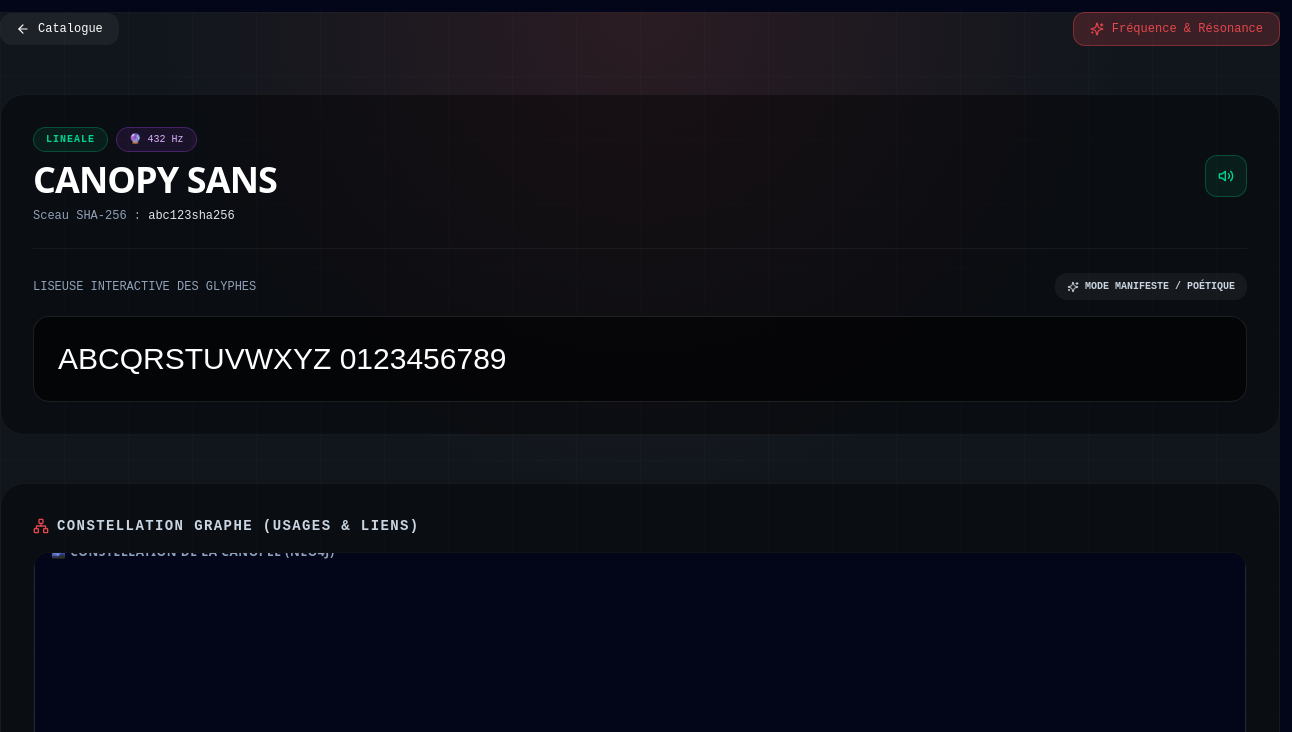
Test: Page : Letr'In Detail View ([slug]) › 🟢 Doit basculer vers le Mode Manifeste / Poétique lors du clic
The image size is (1292, 732).
Click the button "Mode Manifeste / Poétique" at (1151, 286), box [1055,273,1247,300]
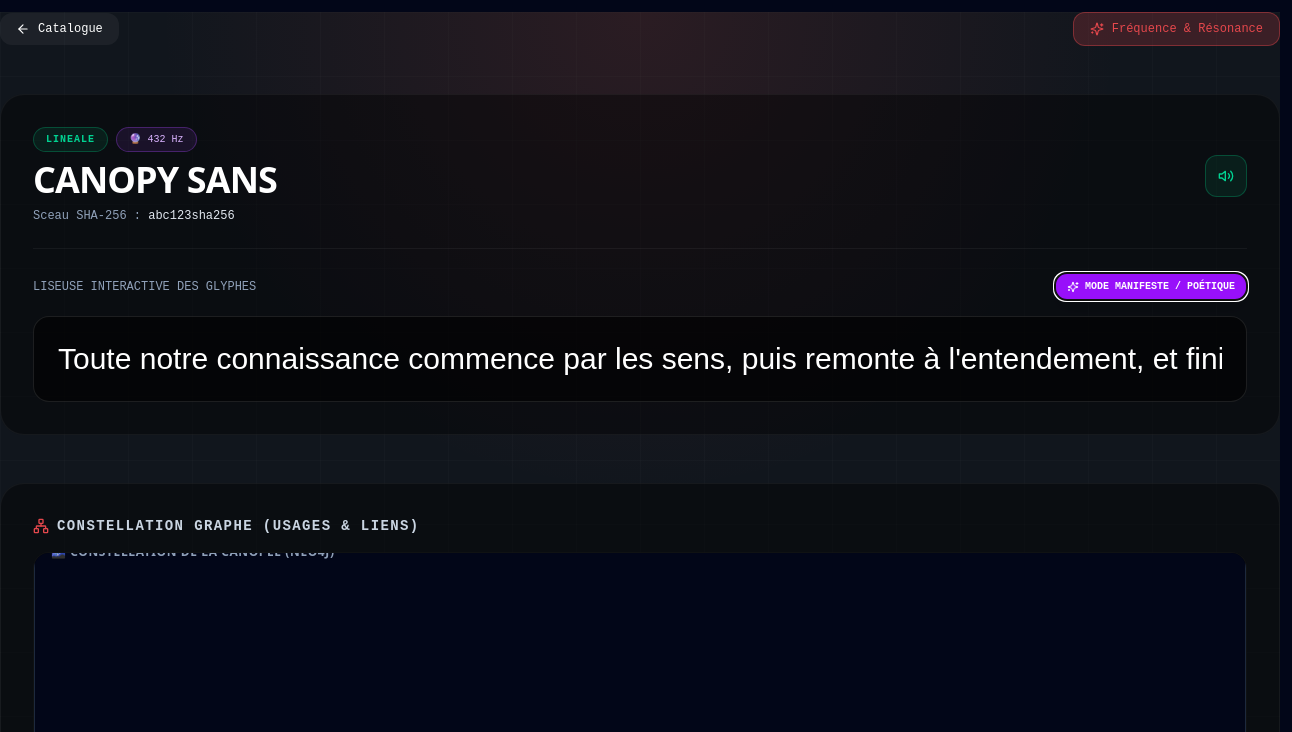
Now the field with placeholder "Tape ton texte ici..." does not hold "ABCQRSTUVWXYZ 0123456789", box [33,316,1247,402]
